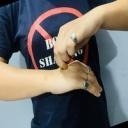hand: (53, 14, 103, 70), (45, 61, 104, 97)
